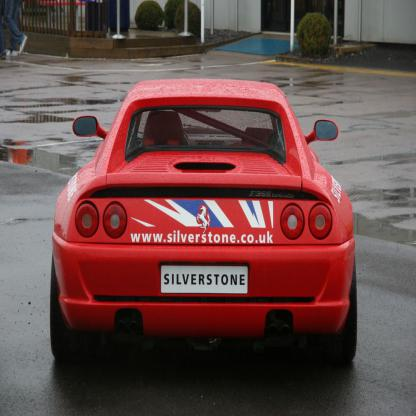Car: (49, 78, 358, 365)
